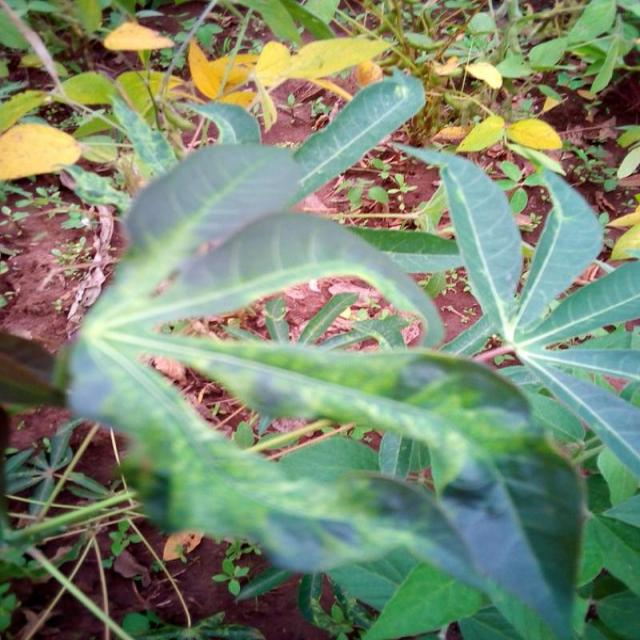cassava leaf: (57, 67, 594, 638)
